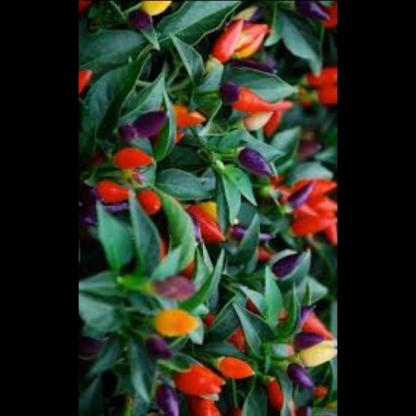hot pepper: (283, 164, 338, 242), (160, 354, 229, 415), (210, 13, 273, 72), (290, 47, 338, 123), (215, 75, 287, 119), (190, 200, 238, 252), (266, 244, 312, 288), (150, 305, 206, 340), (260, 369, 300, 415), (92, 174, 146, 205), (135, 101, 177, 140), (240, 146, 283, 184), (110, 147, 161, 176), (121, 1, 158, 39), (287, 294, 323, 333), (142, 333, 181, 368), (298, 0, 338, 30), (215, 353, 261, 379), (79, 61, 98, 122), (138, 182, 166, 223), (283, 360, 319, 390), (289, 325, 330, 351)
